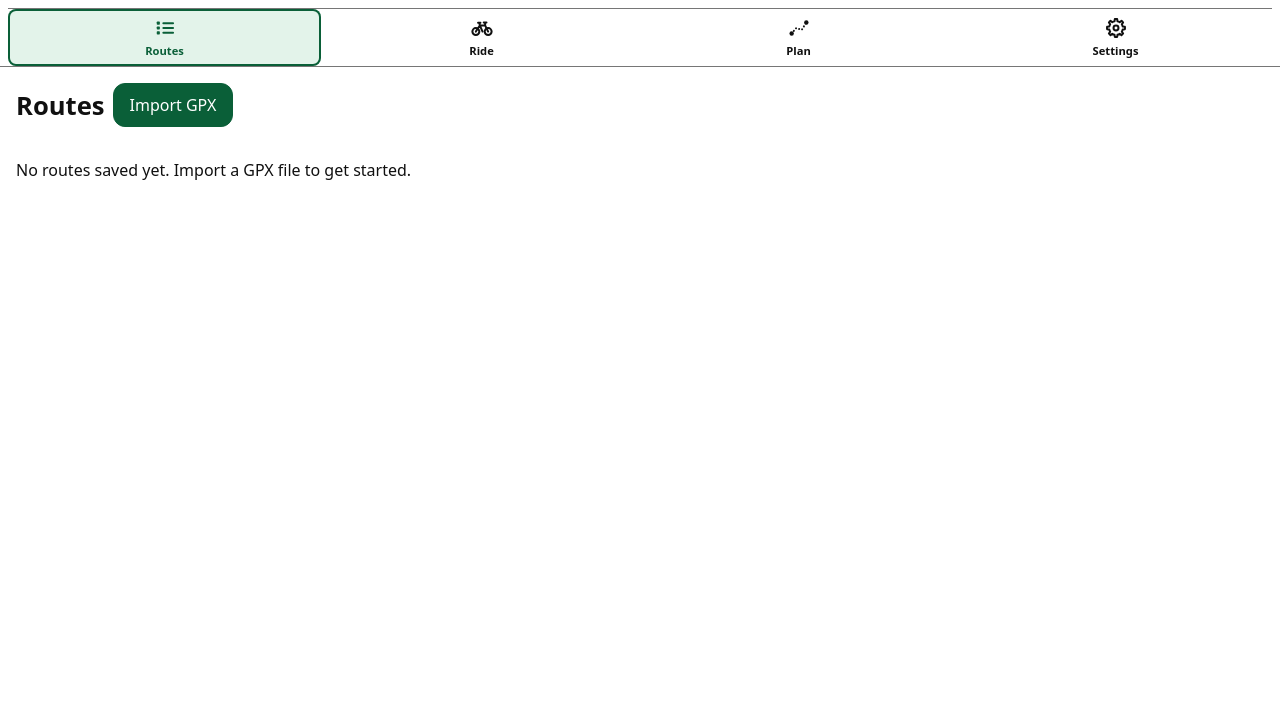
it: App — immersive Riding shell › MainNavigation is restored after a successful Pause of a free-roam session, which returns to Resume free roam without a silent restart
The width and height of the screenshot is (1280, 720).
Step 1. Click the button "Ride" → (482, 38), box x1=325 y1=9 x2=638 y2=66
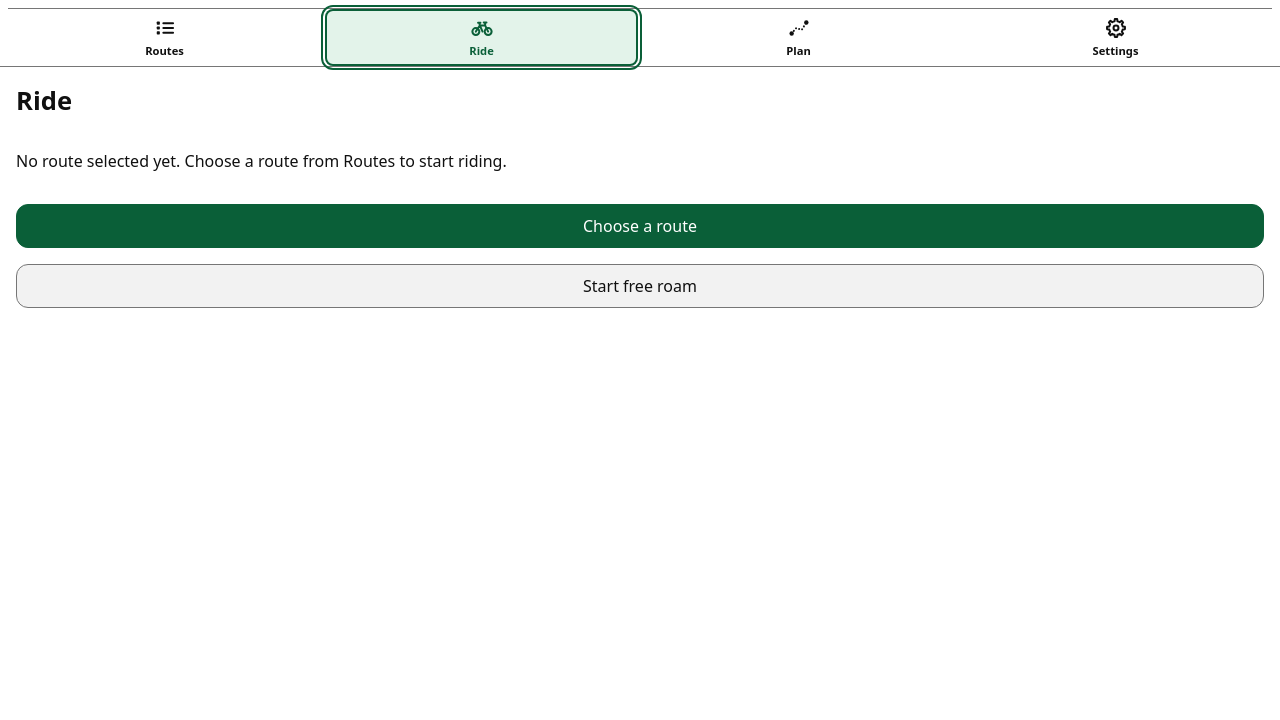
Step 2. Click the button "Start free roam" → (640, 286), box x1=16 y1=264 x2=1264 y2=308
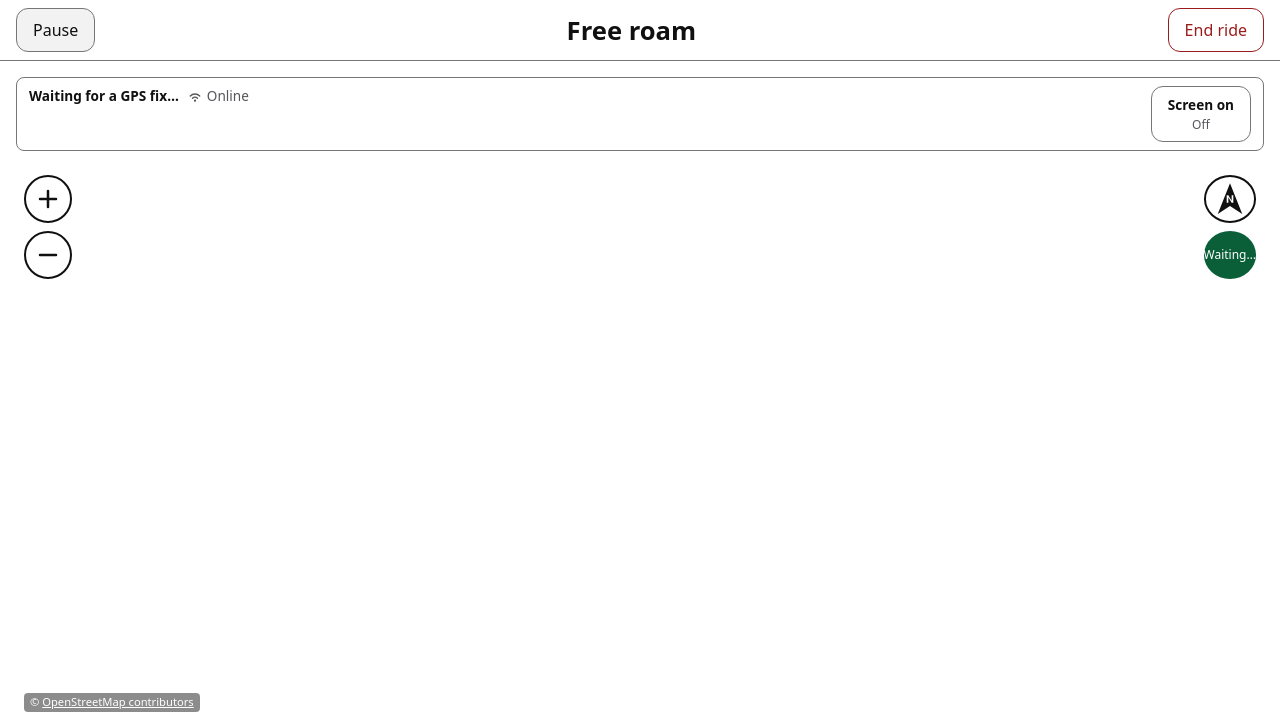
Expected: the button "Pause" is shown
Step 3. Click the button "Pause" → (56, 30), box x1=16 y1=8 x2=95 y2=52
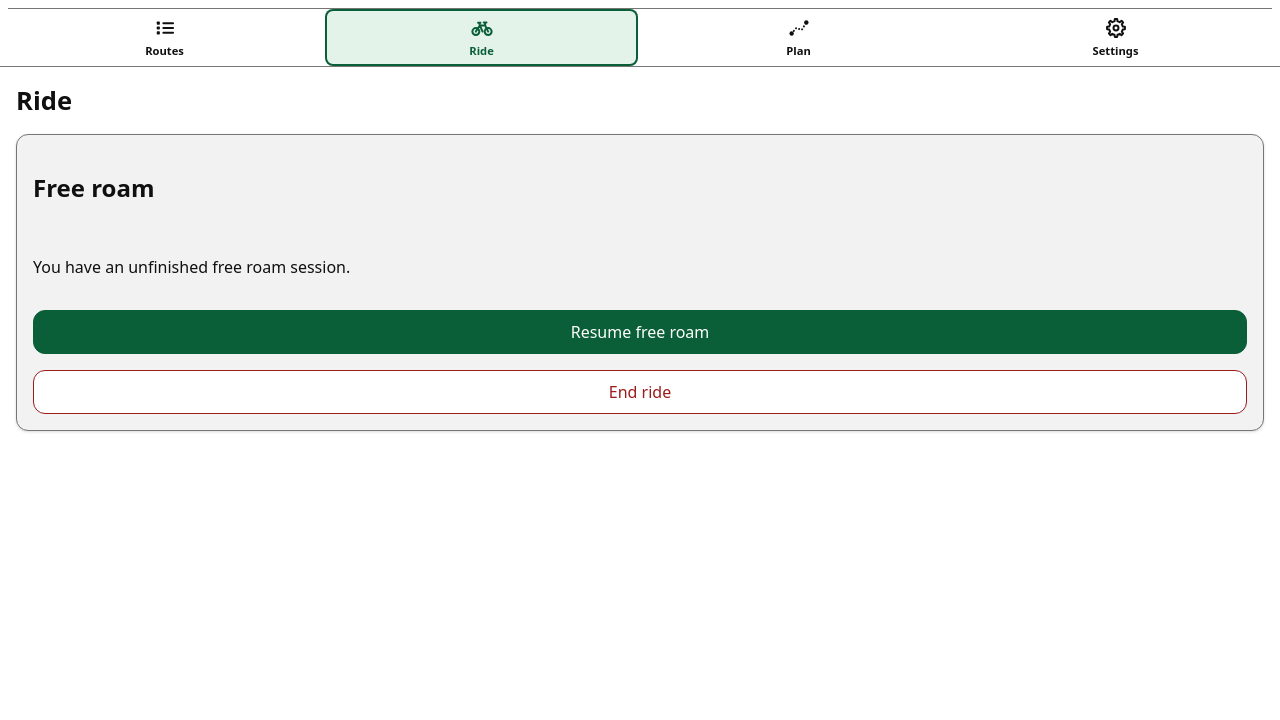
Expected: the button "End ride" is shown, x1=33 y1=370 x2=1247 y2=414
Expected: the button "Resume free roam" is shown, x1=33 y1=310 x2=1247 y2=354
